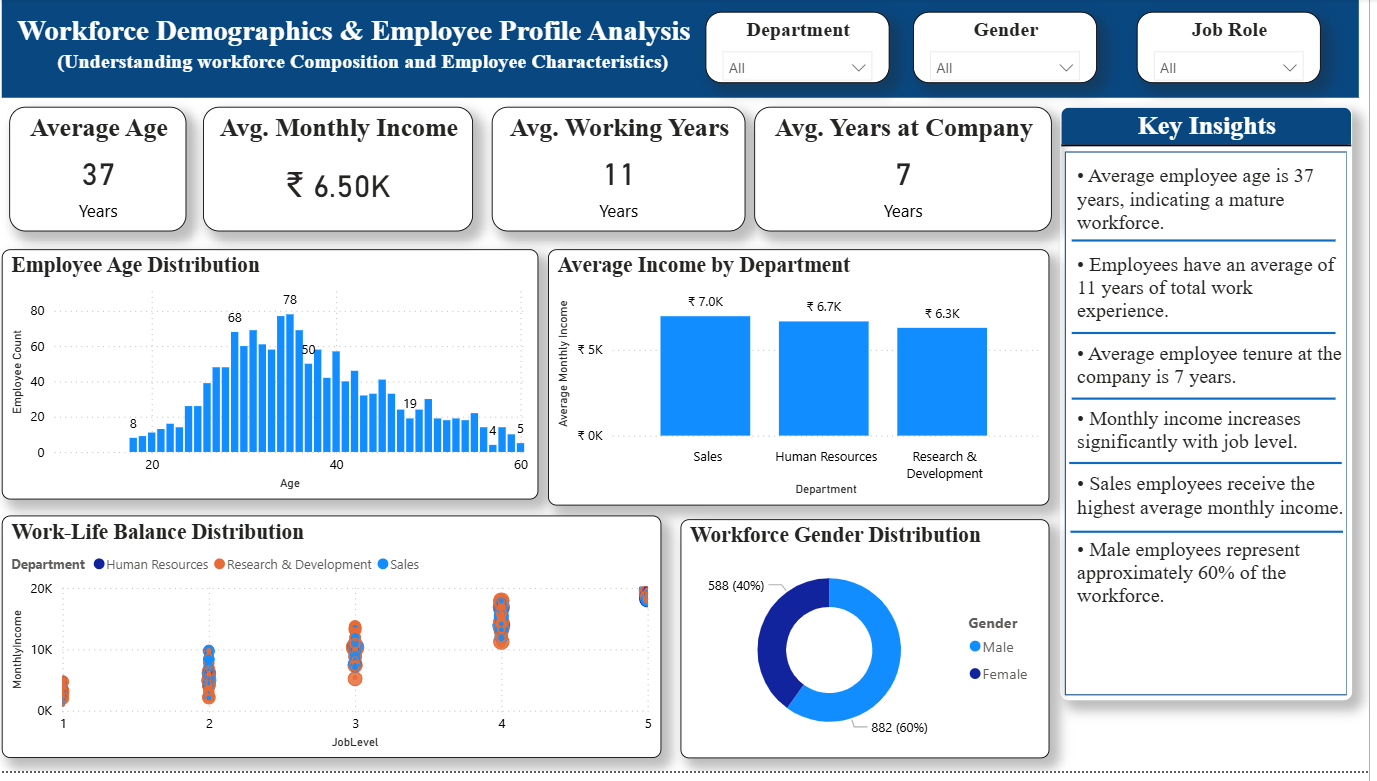

What the dashboard file says about the page in this screenshot:
{"tool":"powerbi","page":{"name":"Workforce Demographics","canvas":[1280,720],"ordinal":2},"visuals":[{"type":"textbox","box":[8.1,0,1262.8,93],"z":0},{"type":"slicer","title":"Department","fields":{"Values":["WA_Fn-UseC_-HR-Employee-Attrition.Department"]},"box":[662.8,12.8,170.9,66.3],"z":1000},{"type":"slicer","title":"Gender","fields":{"Values":["WA_Fn-UseC_-HR-Employee-Attrition.Gender"]},"box":[855.8,12.8,170.9,66.3],"z":2000},{"type":"slicer","title":"Job Role","fields":{"Values":["WA_Fn-UseC_-HR-Employee-Attrition.JobRole"]},"box":[1064,12.8,170.9,66.3],"z":3000},{"type":"card","title":"Avg. Working Years","fields":{"Values":["hr_attrition.Avg Working Years"]},"box":[464,101.2,236,116.3],"z":6000},{"type":"card","title":"Avg. Years at Company","fields":{"Values":["hr_attrition.Avg Years at Company"]},"box":[708.1,101.2,276.7,116.3],"z":7000},{"type":"columnChart","title":"Employee Age Distribution","fields":{"Y":["hr_attrition.Employee Count"],"Category":["hr_attrition.Age"]},"box":[8.1,233.7,498.8,232.6],"z":8000},{"type":"columnChart","title":"Average Income by Department","fields":{"Category":["hr_attrition.Department"],"Y":["hr_attrition.Average Monthly Income"]},"box":[516.3,233.7,466.3,238.4],"z":9000},{"type":"donutChart","title":"Workforce Gender Distribution","fields":{"Y":["hr_attrition.Employee Count"],"Category":["hr_attrition.Gender"]},"box":[639.5,484.9,343,222.1],"z":10000},{"type":"shape","title":"Key Insights   ","box":[993,101.2,270.9,552.3],"z":11000},{"type":"textbox","box":[1003.5,150,258.1,493],"z":12000},{"type":"shape","box":[1001.2,411.6,253.5,41.9],"z":13000},{"type":"shape","box":[1003.5,269.8,245.3,83.7],"z":14000},{"type":"shape","box":[1003.5,208.1,245.3,34.9],"z":15000},{"type":"shape","box":[1003.5,367.4,245.3,10.5],"z":16000},{"type":"scatterChart","title":"Work-Life Balance Distribution","fields":{"X":["hr_attrition.JobLevel"],"Y":["hr_attrition.MonthlyIncome"],"Series":["hr_attrition.Department"],"Size":["Sum(hr_attrition.YearsAtCompany)"]},"box":[8.1,481.4,614,225.6],"z":17000},{"type":"card","title":"Average Age","fields":{"Values":["hr_attrition.Average Age"]},"box":[15.1,101.2,165.1,116.3],"z":17001},{"type":"card","title":"Avg. Monthly Income","fields":{"Values":["hr_attrition.Average Monthly Income"]},"box":[195.3,101.2,251.2,116.3],"z":17002},{"type":"shape","box":[1002.3,475.6,253.5,41.9],"z":17003}]}

Visuals, with their boxes in screenshot pixels (x1, y1, x2, y2), scaled from the page's 1280x720 canvas onto the 1377x781 screenshot:
textbox: 9:0:1367:101
"Department" slicer: 713:14:897:86
"Gender" slicer: 921:14:1105:86
"Job Role" slicer: 1145:14:1328:86
"Avg. Working Years" card: 499:110:753:236
"Avg. Years at Company" card: 762:110:1059:236
"Employee Age Distribution" columnChart: 9:253:545:506
"Average Income by Department" columnChart: 555:253:1057:512
"Workforce Gender Distribution" donutChart: 688:526:1057:767
"Key Insights   " shape: 1068:110:1360:709
textbox: 1080:163:1357:697
shape: 1077:446:1350:492
shape: 1080:293:1343:383
shape: 1080:226:1343:264
shape: 1080:399:1343:410
"Work-Life Balance Distribution" scatterChart: 9:522:669:767
"Average Age" card: 16:110:194:236
"Avg. Monthly Income" card: 210:110:480:236
shape: 1078:516:1351:561
